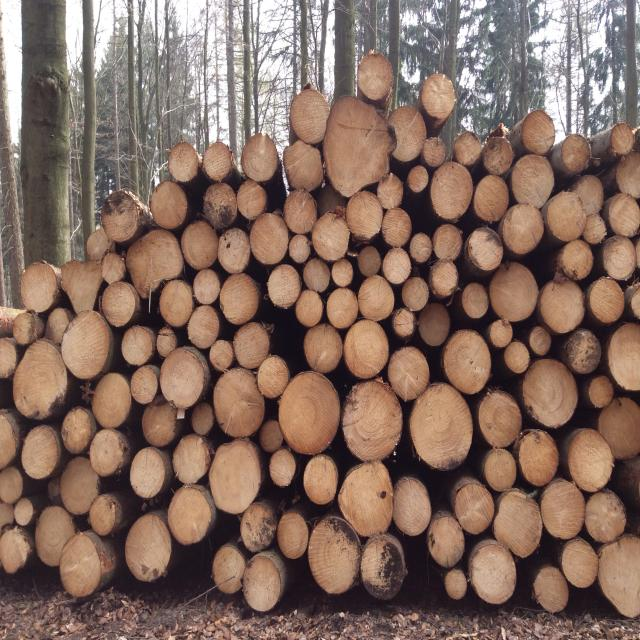wood-log: (325, 96, 391, 195), (409, 383, 474, 470), (278, 371, 340, 456), (339, 383, 401, 464), (10, 341, 68, 422), (308, 520, 361, 598), (338, 462, 393, 537), (208, 439, 262, 514), (524, 358, 580, 428), (125, 228, 182, 296), (212, 370, 265, 440), (61, 312, 114, 380), (496, 491, 544, 562), (599, 536, 640, 619), (125, 514, 174, 583), (439, 331, 491, 396), (467, 540, 516, 604), (159, 348, 209, 410), (567, 429, 615, 492), (488, 262, 538, 322), (359, 535, 404, 601), (166, 486, 215, 546), (343, 320, 390, 379), (541, 480, 587, 540), (546, 186, 595, 242), (60, 532, 101, 597), (540, 278, 586, 334), (428, 166, 473, 223), (478, 391, 523, 448), (600, 397, 640, 460), (59, 457, 101, 516), (32, 509, 73, 569), (517, 431, 560, 486), (452, 478, 494, 534), (388, 348, 431, 402), (244, 554, 284, 612), (607, 323, 640, 393), (501, 203, 546, 254), (583, 491, 626, 544), (21, 426, 63, 480), (394, 476, 433, 534), (91, 372, 132, 427), (510, 155, 554, 206), (290, 92, 332, 145), (389, 109, 429, 164), (219, 272, 261, 324), (61, 260, 103, 312), (252, 213, 292, 266), (282, 142, 324, 192), (129, 446, 169, 498), (104, 190, 143, 242), (560, 328, 602, 376), (427, 514, 465, 567), (171, 434, 211, 484), (20, 262, 60, 312), (304, 322, 343, 373), (560, 539, 599, 588), (240, 135, 279, 184), (240, 500, 276, 553), (355, 53, 395, 100), (312, 215, 352, 262), (233, 322, 272, 370), (180, 221, 219, 269), (141, 398, 179, 447), (345, 192, 383, 241), (100, 282, 140, 328), (420, 75, 459, 122), (475, 175, 512, 224), (87, 428, 126, 474), (151, 182, 189, 229), (587, 279, 625, 326), (304, 455, 339, 506), (535, 564, 571, 612), (160, 280, 196, 328), (203, 182, 239, 230), (60, 406, 96, 453), (357, 277, 395, 321), (214, 544, 247, 594), (466, 228, 504, 271), (521, 111, 557, 155), (601, 236, 637, 280), (481, 447, 517, 491), (268, 263, 303, 308), (277, 510, 309, 559), (218, 228, 252, 274), (282, 191, 318, 234), (417, 302, 452, 346), (258, 354, 293, 397), (566, 177, 603, 217), (607, 193, 640, 237), (0, 524, 30, 572), (186, 306, 220, 348), (90, 494, 124, 536), (121, 326, 156, 366), (558, 239, 593, 279), (557, 136, 592, 176), (168, 143, 202, 184), (327, 288, 361, 328), (615, 457, 640, 508), (202, 143, 234, 182), (0, 411, 20, 471), (483, 140, 516, 176), (430, 261, 461, 299), (237, 182, 268, 220), (434, 224, 465, 261), (382, 210, 412, 248), (130, 366, 160, 404), (617, 151, 640, 200), (453, 131, 485, 165), (382, 249, 412, 285), (296, 288, 324, 326), (302, 257, 332, 292), (460, 284, 490, 319), (194, 269, 222, 306), (270, 448, 298, 485), (402, 275, 431, 310), (376, 173, 404, 209), (586, 374, 615, 408), (259, 421, 288, 454), (504, 342, 531, 374), (582, 214, 609, 246), (0, 468, 23, 505), (191, 401, 215, 436), (208, 340, 234, 372), (613, 123, 639, 155), (391, 307, 416, 340), (87, 228, 113, 259), (100, 252, 125, 284), (488, 320, 514, 350), (356, 245, 381, 276), (423, 137, 448, 167), (527, 327, 551, 358), (0, 338, 18, 379), (410, 232, 433, 264), (288, 234, 311, 263), (445, 570, 467, 600), (332, 258, 354, 288), (15, 498, 36, 527), (409, 166, 429, 195), (159, 330, 179, 356), (629, 276, 640, 319), (0, 500, 15, 530)
